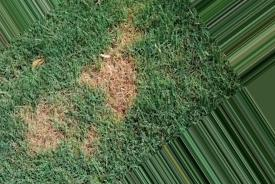patch: (102, 65, 134, 89), (105, 91, 129, 111), (41, 107, 53, 123), (35, 125, 47, 140), (104, 54, 122, 62), (53, 127, 63, 139)
